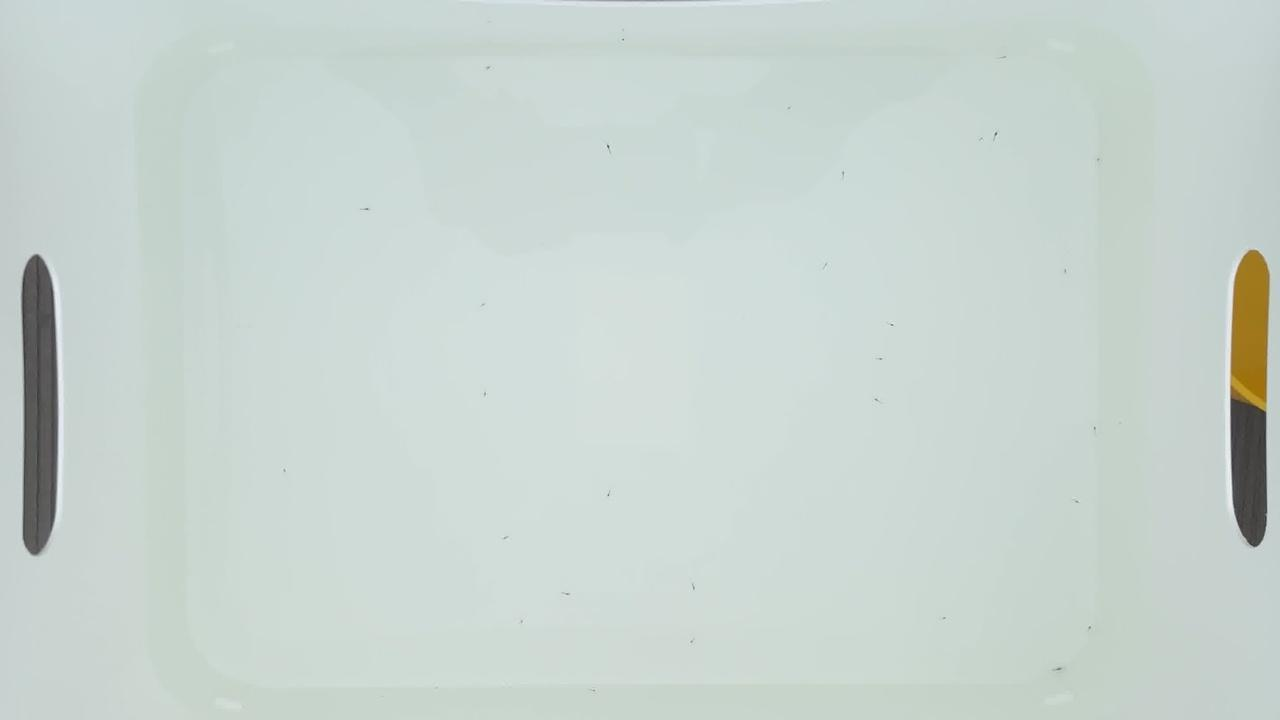shrimp: (995, 52, 1008, 60), (835, 168, 848, 176), (874, 356, 887, 364), (1068, 456, 1081, 464), (558, 589, 571, 597), (602, 140, 615, 148), (621, 35, 634, 43), (1092, 160, 1105, 167), (781, 107, 794, 114), (819, 262, 832, 269), (885, 323, 898, 330), (872, 399, 885, 406), (1061, 268, 1074, 275), (1088, 426, 1101, 433), (1114, 420, 1127, 427), (1069, 498, 1082, 505), (1083, 626, 1096, 633), (1053, 666, 1066, 673), (936, 612, 949, 619), (685, 581, 698, 588), (688, 639, 701, 646), (585, 688, 598, 695), (513, 618, 526, 625), (498, 537, 511, 544), (603, 487, 616, 494), (477, 304, 490, 311), (361, 209, 374, 216), (372, 161, 385, 168), (480, 61, 493, 68), (279, 470, 292, 477), (989, 129, 1001, 136), (973, 136, 985, 143), (479, 394, 491, 401)
